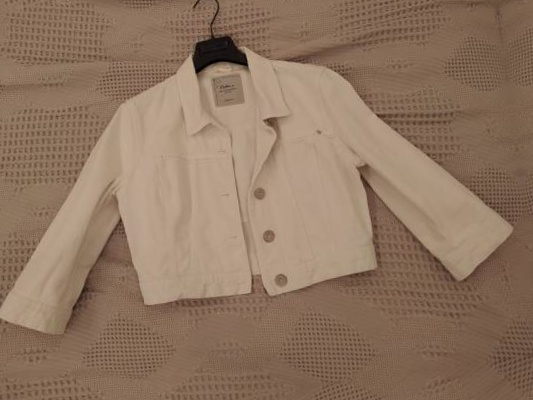Blazer: (0, 6, 518, 378), (518, 0, 533, 303)
